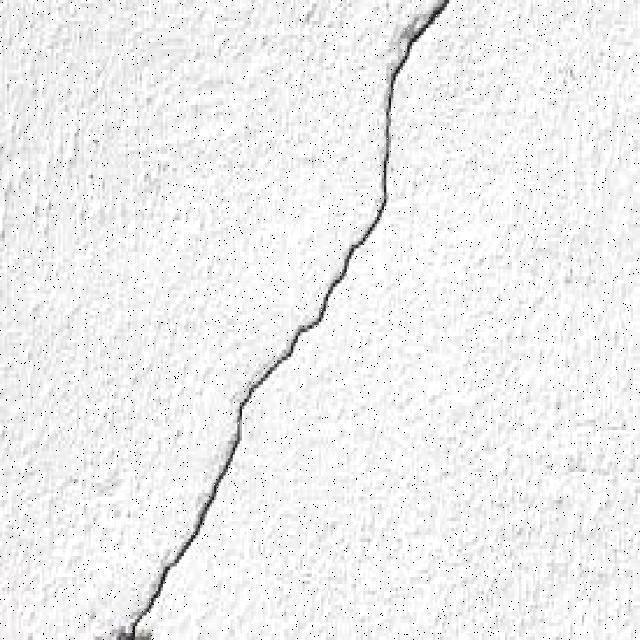minor crack: (113, 477, 224, 634), (368, 4, 456, 180)
moderate crack: (240, 318, 321, 407)
severe crack: (298, 181, 396, 362), (226, 402, 246, 445)
